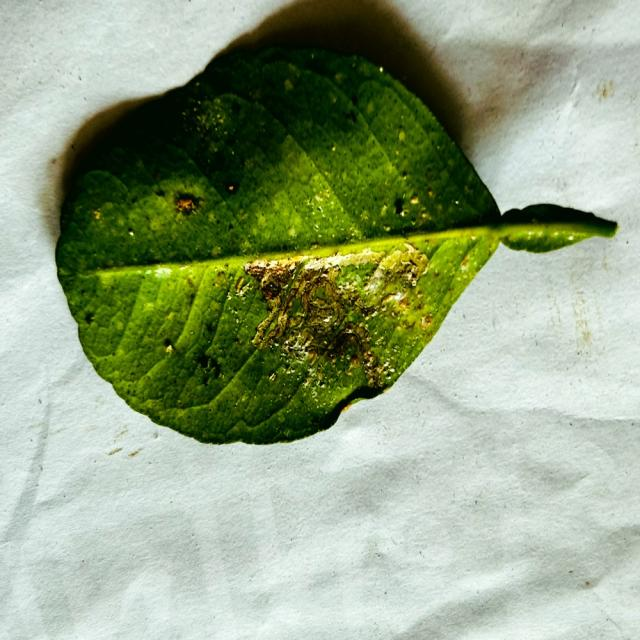Bacterial_Blight: (255, 259, 360, 364), (289, 288, 344, 347), (323, 326, 375, 381), (294, 259, 341, 307), (288, 290, 340, 332), (162, 191, 207, 219), (252, 309, 285, 347), (283, 326, 317, 358), (393, 190, 425, 222), (173, 192, 205, 215), (260, 276, 284, 301), (197, 354, 221, 377), (313, 282, 336, 304), (213, 271, 228, 288), (289, 298, 303, 316), (393, 197, 406, 216), (346, 226, 362, 241), (420, 313, 435, 328), (224, 181, 240, 195), (397, 296, 411, 310), (345, 110, 358, 125), (205, 319, 218, 334), (235, 276, 245, 293), (209, 244, 222, 257), (163, 340, 175, 353), (84, 312, 96, 325), (315, 287, 327, 300), (460, 253, 470, 268), (266, 369, 278, 381), (349, 355, 360, 368), (350, 93, 360, 107), (259, 341, 271, 352), (400, 229, 410, 240), (92, 209, 102, 220), (463, 184, 473, 194), (304, 375, 314, 385), (153, 170, 162, 181), (186, 277, 195, 288), (398, 130, 406, 142), (287, 225, 296, 235), (415, 289, 424, 299), (155, 189, 165, 197), (309, 242, 319, 250), (280, 243, 290, 251), (127, 228, 135, 237), (427, 188, 435, 197), (416, 301, 424, 310), (233, 337, 241, 345), (401, 170, 408, 179), (50, 156, 57, 165), (433, 270, 440, 278), (383, 225, 391, 232), (286, 367, 294, 374), (228, 222, 234, 231), (176, 399, 183, 406), (392, 345, 399, 352), (531, 218, 539, 224), (228, 185, 235, 191), (316, 205, 322, 212), (234, 400, 240, 407), (378, 66, 384, 73), (391, 311, 397, 318), (71, 143, 76, 151), (331, 145, 336, 152), (189, 330, 195, 335), (454, 200, 460, 205)
Lemon: (53, 45, 618, 447)
